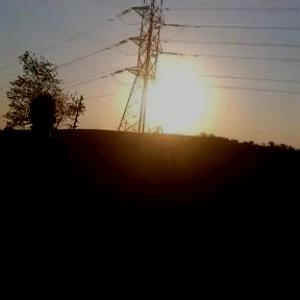follow: (0, 91, 78, 299)
